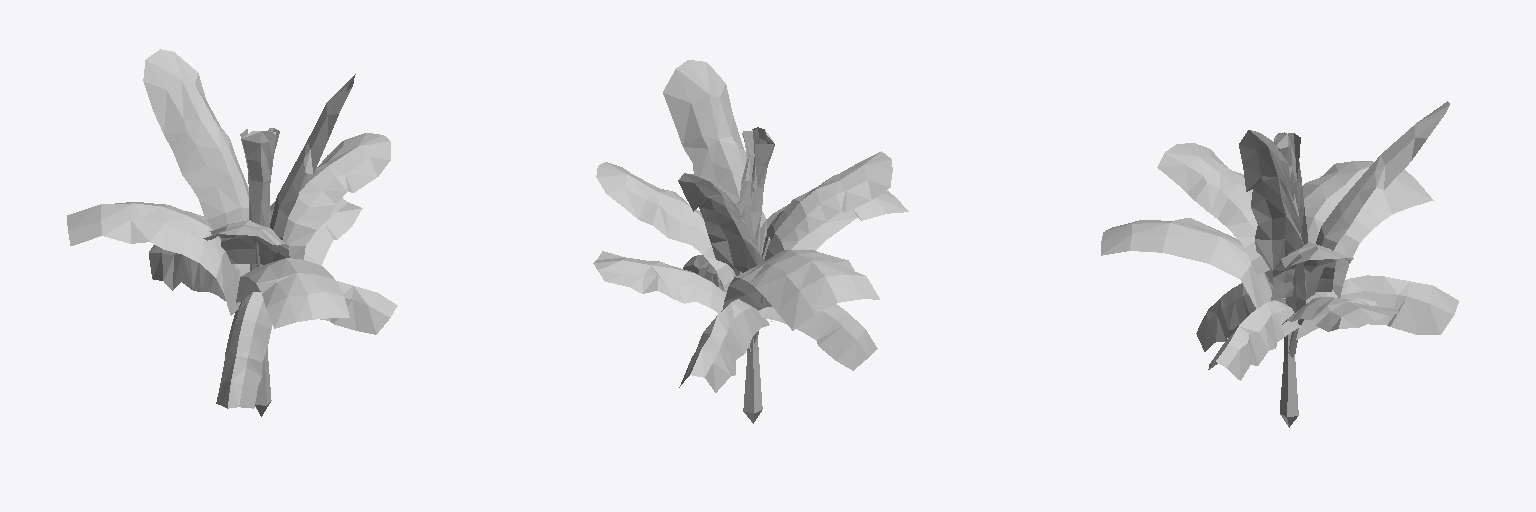
The model's file is banana_tree.obj.
3 renders of one model, left to right at view 1: azimuth 30°, elevation 25°; view 2: azimuth 150°, elevation 25°; view 3: azimuth 270°, elevation 25°, orthographic.
Visible parts, largest first — view 1: Bananatree, Bananatre0; view 2: Bananatree, Bananatre0; view 3: Bananatree, Bananatre0.
Part boxes in pixels (x1,y1,x2,y2): Bananatree: (67, 49, 397, 408); Bananatre0: (255, 348, 271, 416); Bananatree: (593, 60, 908, 392); Bananatre0: (743, 338, 762, 423); Bananatree: (1101, 101, 1458, 380); Bananatre0: (1280, 334, 1298, 427).
Bounding box in the file's own units: 5.62 × 6.02 × 5.86.